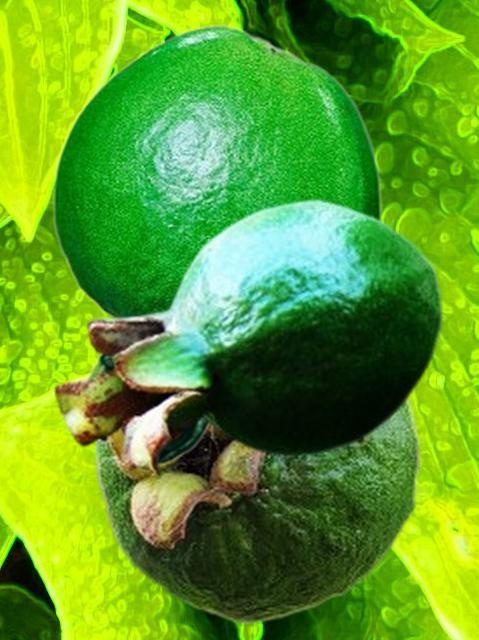guava: (51, 24, 382, 468), (53, 197, 443, 477), (93, 396, 421, 624)
